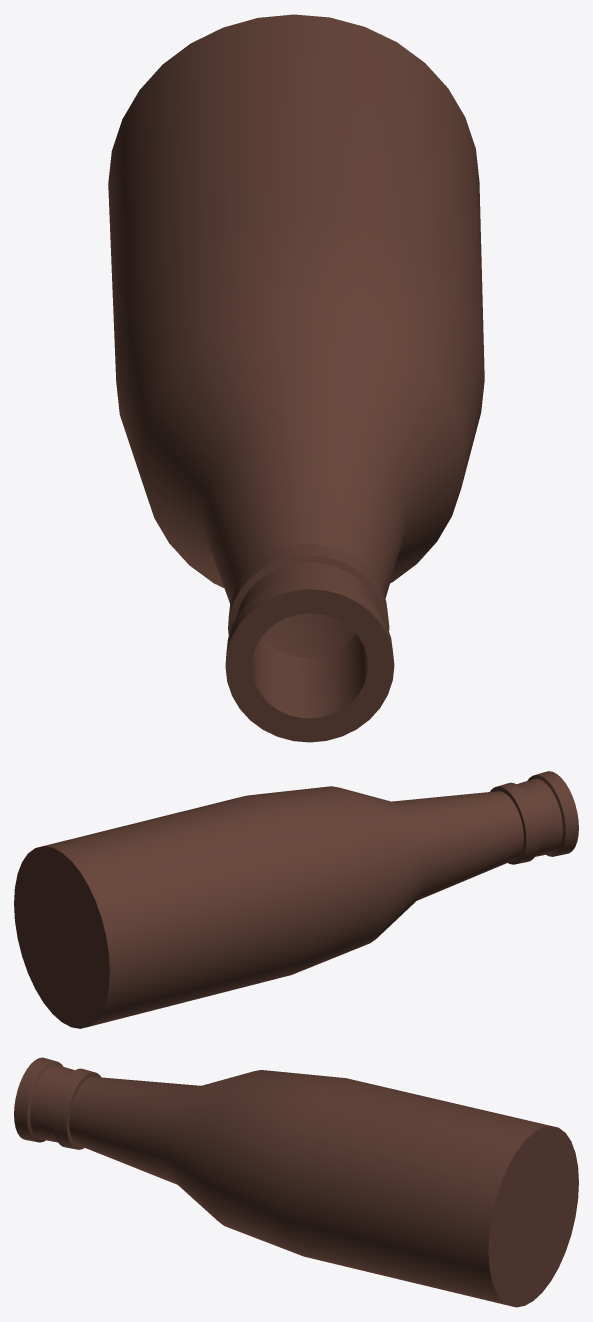
Rendered from bottle.glb.
The picture shows the model from 3 angles, top to bottom: view 1: azimuth 30°, elevation 25°; view 2: azimuth 150°, elevation 25°; view 3: azimuth 270°, elevation 25°; orthographic projection. The views are drawn at different scales.
Parts seen in each view (by area): view 1: bottle; view 2: bottle; view 3: bottle.
Boxes of the visible parts, x1,y1,x2,y2 form: bottle: (108,14,484,742); bottle: (14,771,578,1028); bottle: (14,1057,578,1307).
Size of the model in its own units: 0.5807 by 0.2717 by 0.8269.
